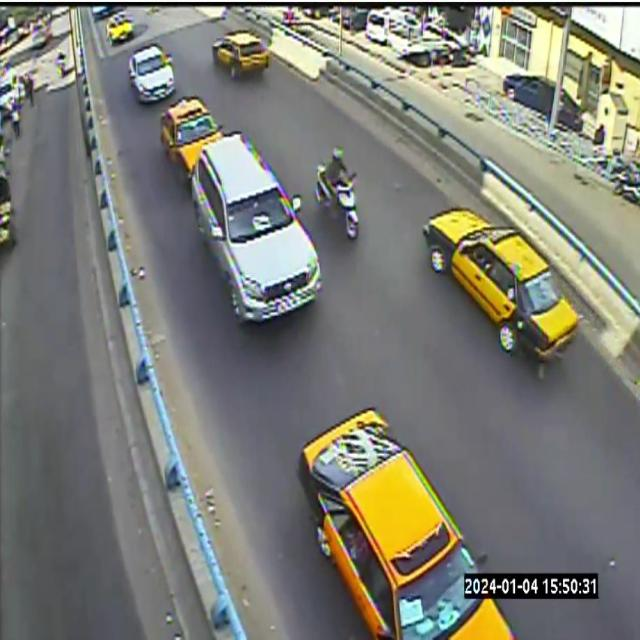car: (298, 408, 513, 639), (191, 133, 321, 321), (423, 209, 577, 362), (161, 95, 223, 181), (160, 96, 223, 179), (213, 31, 269, 78), (129, 45, 174, 102), (106, 12, 134, 44)
